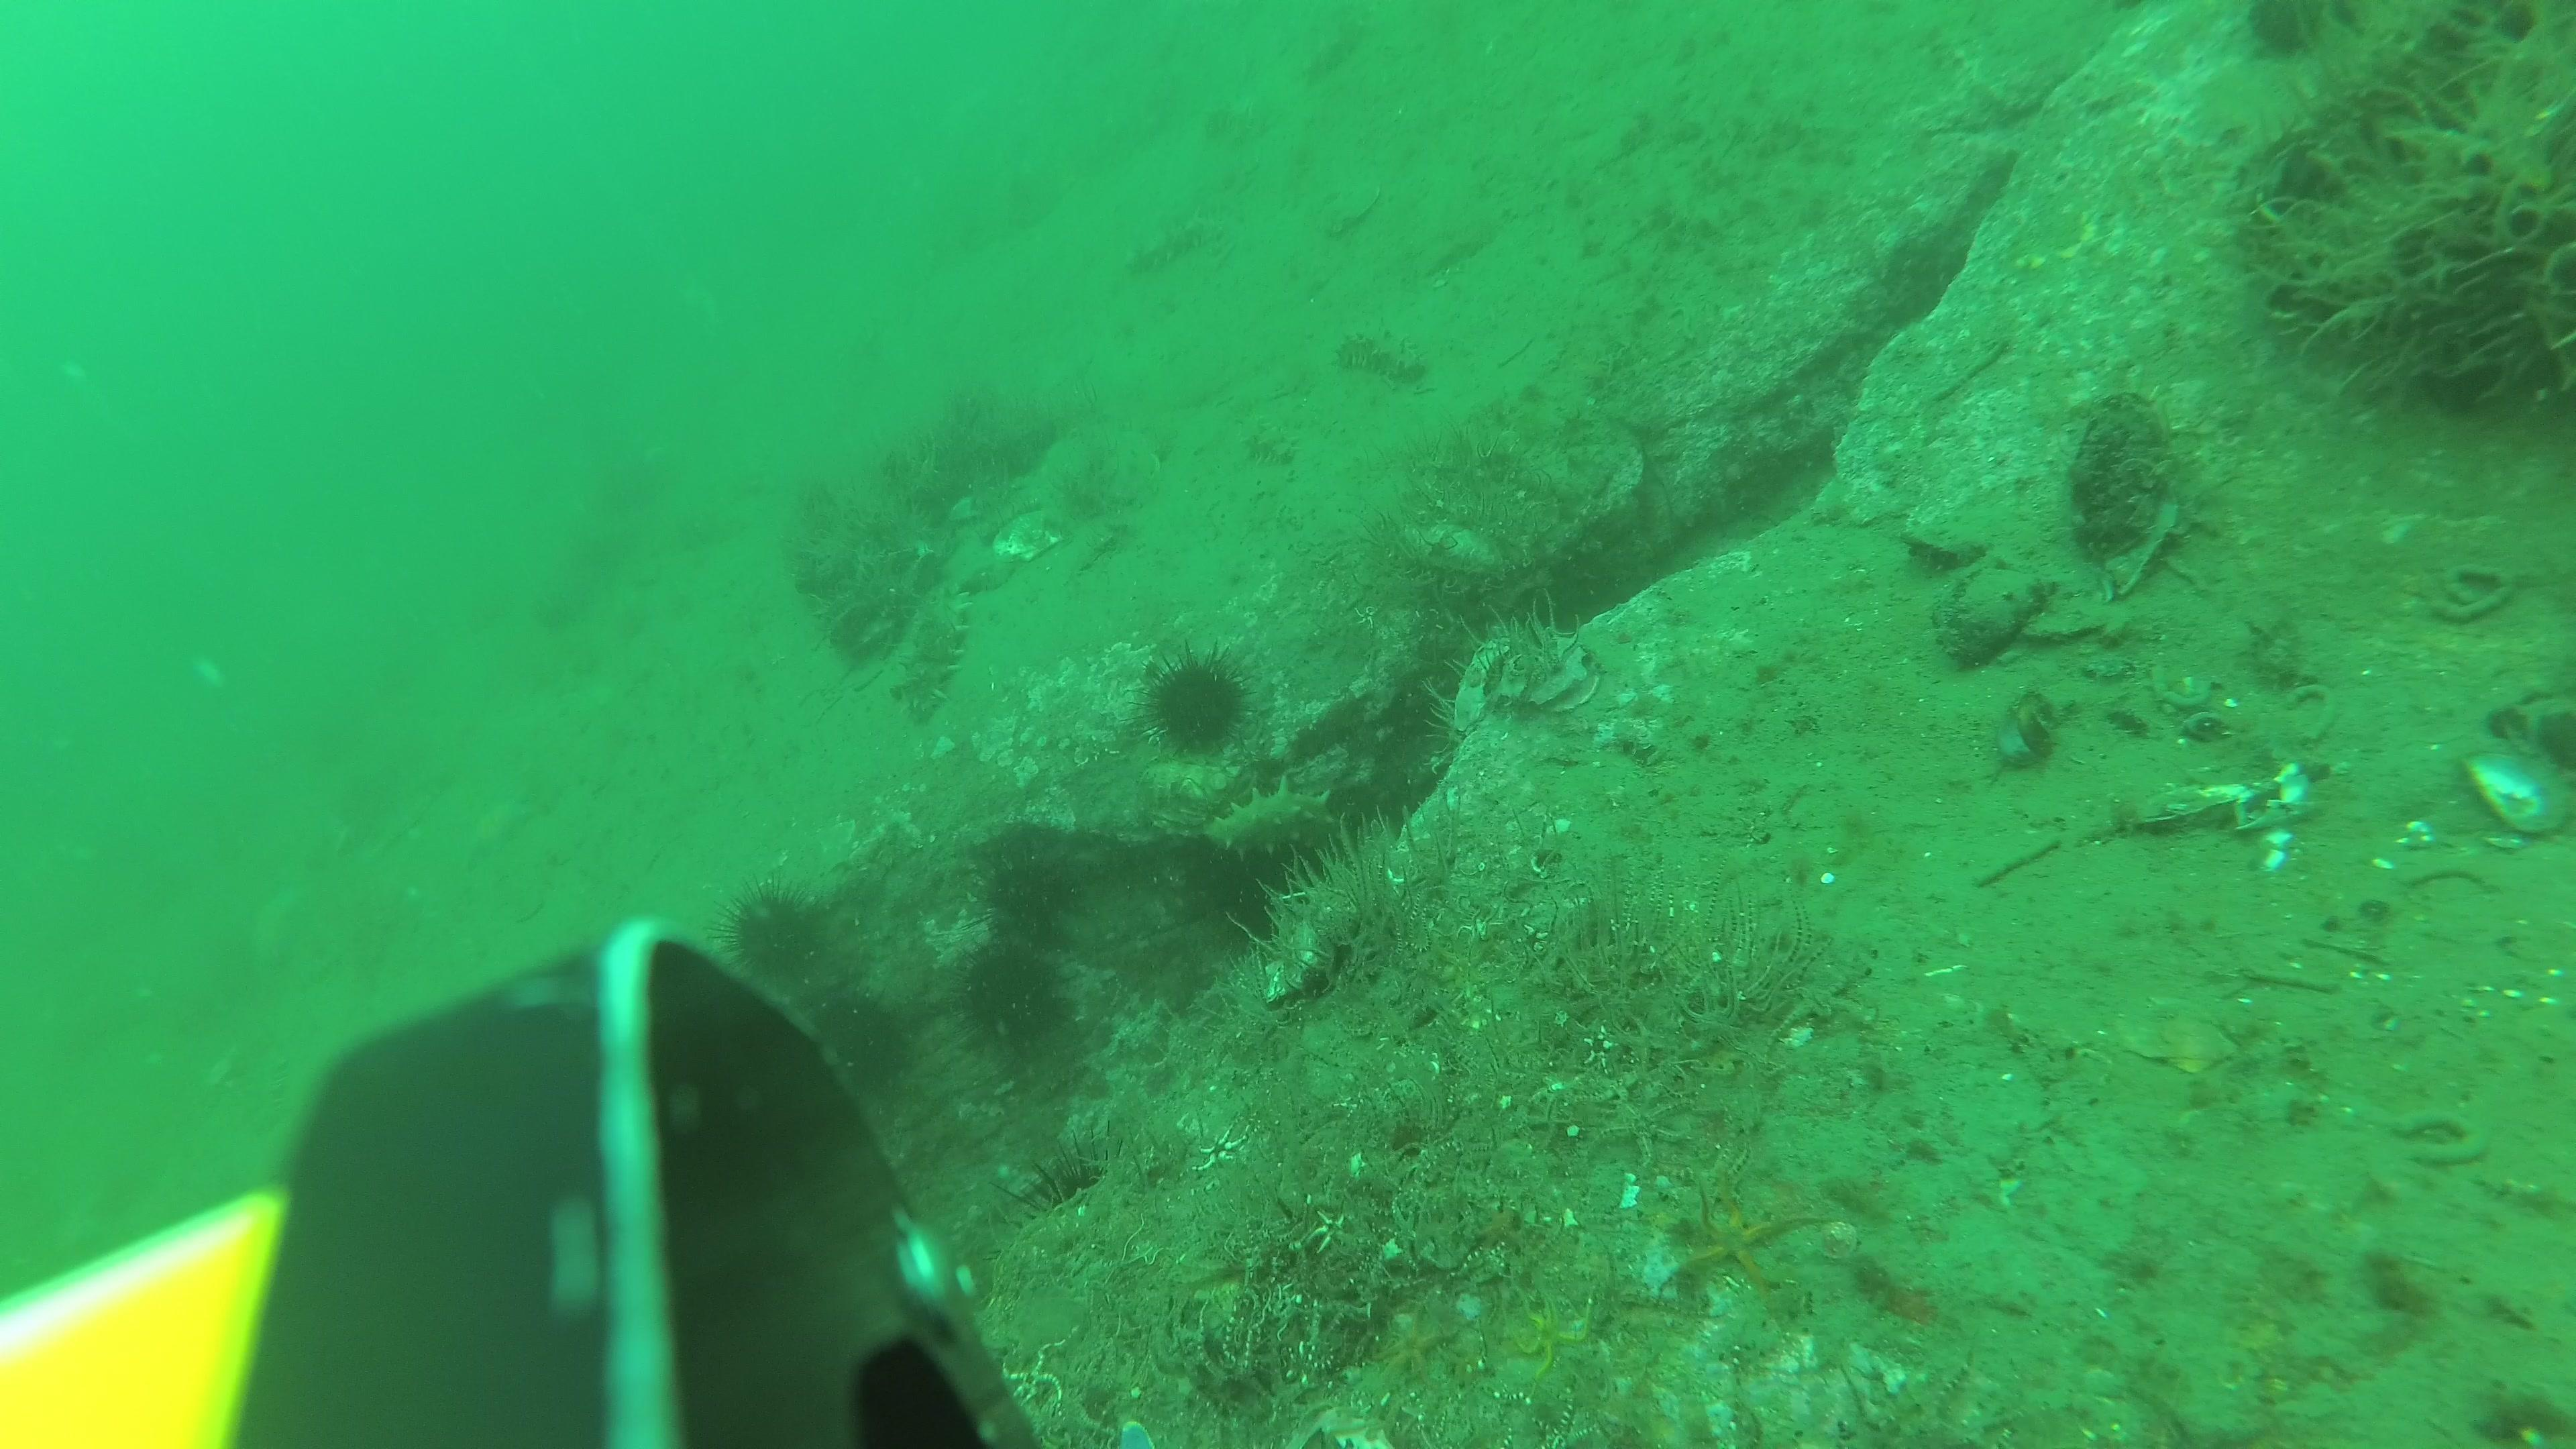echinus: (1021, 1127, 1141, 1247), (961, 945, 1079, 1065), (1194, 835, 1304, 957), (1145, 644, 1256, 759), (977, 842, 1079, 961), (718, 881, 826, 989), (826, 991, 913, 1085)
holothurian: (1215, 777, 1352, 858), (906, 580, 973, 734), (1332, 333, 1428, 386), (1299, 14, 1364, 88), (1127, 214, 1207, 274), (1205, 99, 1265, 147), (1244, 425, 1302, 472)
scallop: (2125, 991, 2242, 1079), (993, 502, 1070, 561), (1323, 177, 1382, 234)
starfish: (1683, 1178, 1824, 1292), (1514, 1297, 1594, 1376), (1380, 1315, 1456, 1394)
